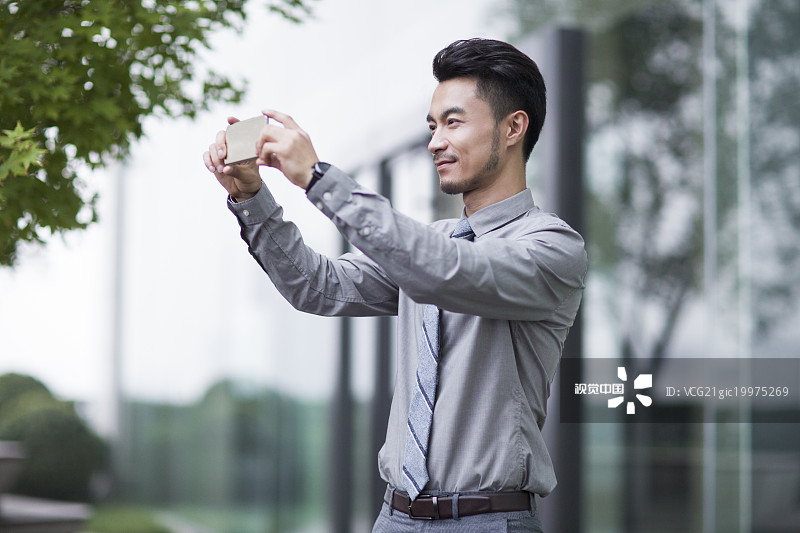taking photos: (194, 100, 330, 196)
